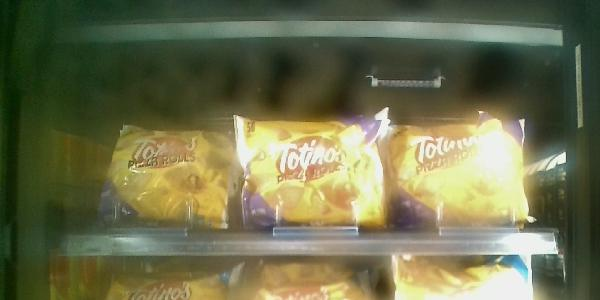icecream: (389, 99, 536, 239), (233, 112, 389, 236), (93, 119, 237, 246)
